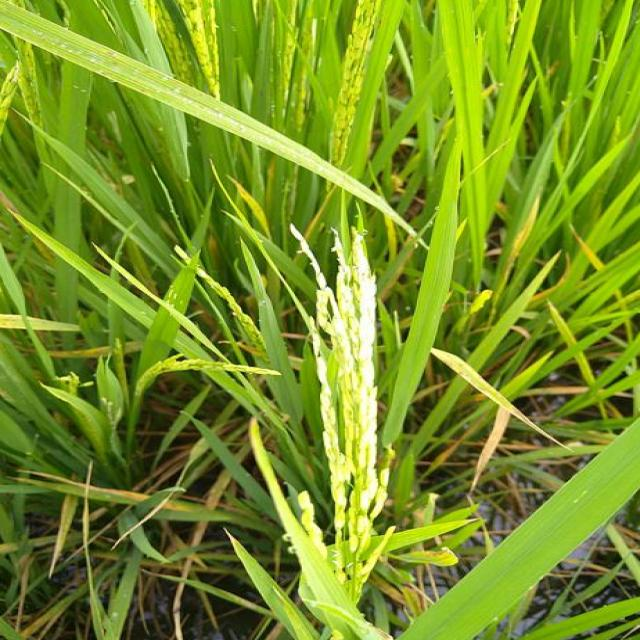Leaf Streak: (0, 2, 416, 236)
